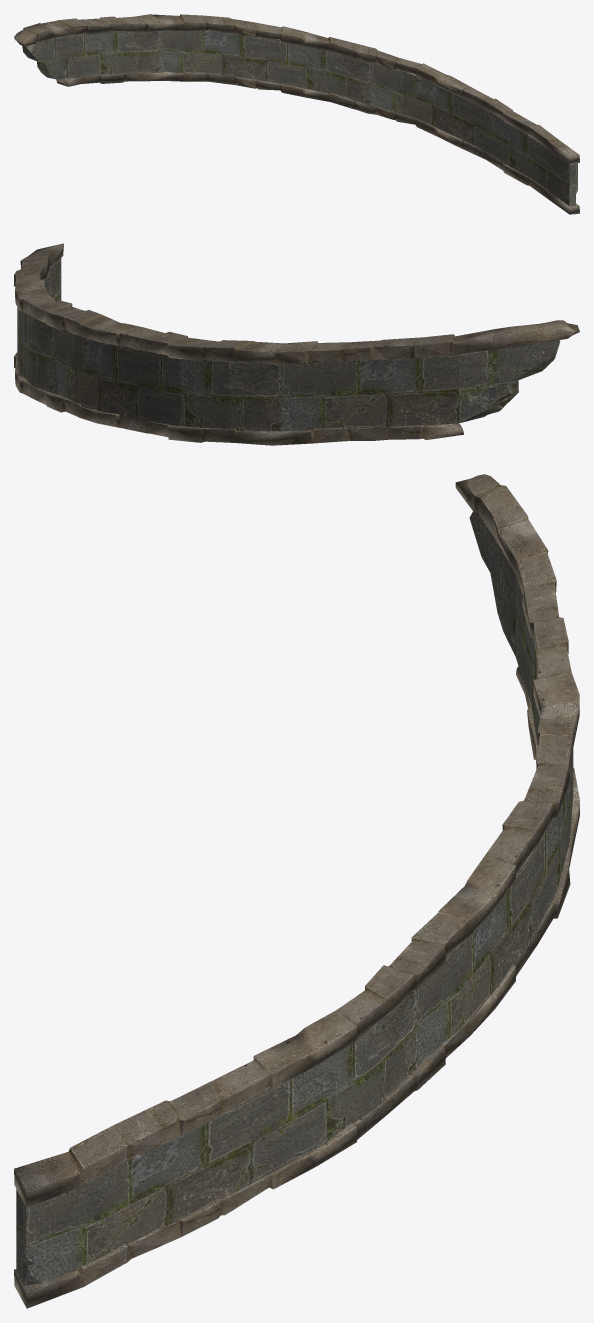
The model's file is bg_anh_gvalley_sa01_06_sm_cwk.FBX.
3 renders of one model, top to bottom at view 1: azimuth 30°, elevation 25°; view 2: azimuth 150°, elevation 25°; view 3: azimuth 270°, elevation 25°, orthographic. The views are drawn at different scales.
Parts seen in each view (by area): view 1: bg_anh_gvalley_sa01_06_sm_cwk; view 2: bg_anh_gvalley_sa01_06_sm_cwk; view 3: bg_anh_gvalley_sa01_06_sm_cwk.
Boxes of the visible parts, box(x1,y1,x2,y2) form: bg_anh_gvalley_sa01_06_sm_cwk: box(14, 14, 579, 214); bg_anh_gvalley_sa01_06_sm_cwk: box(14, 243, 579, 445); bg_anh_gvalley_sa01_06_sm_cwk: box(14, 474, 579, 1308).
Size of the model in its own units: 988 by 429 by 543.
